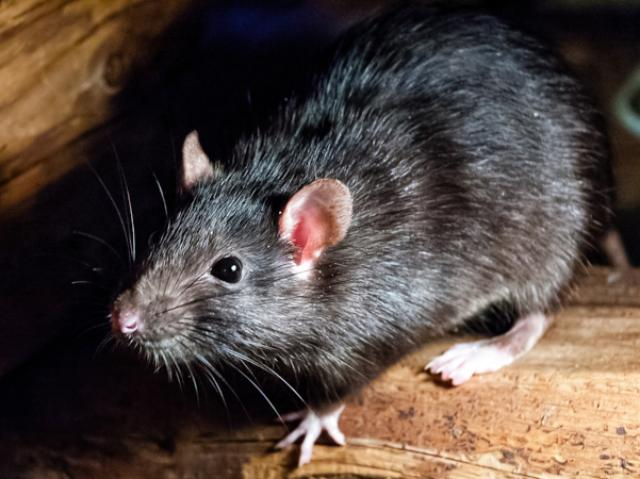rat: (59, 11, 608, 467)
